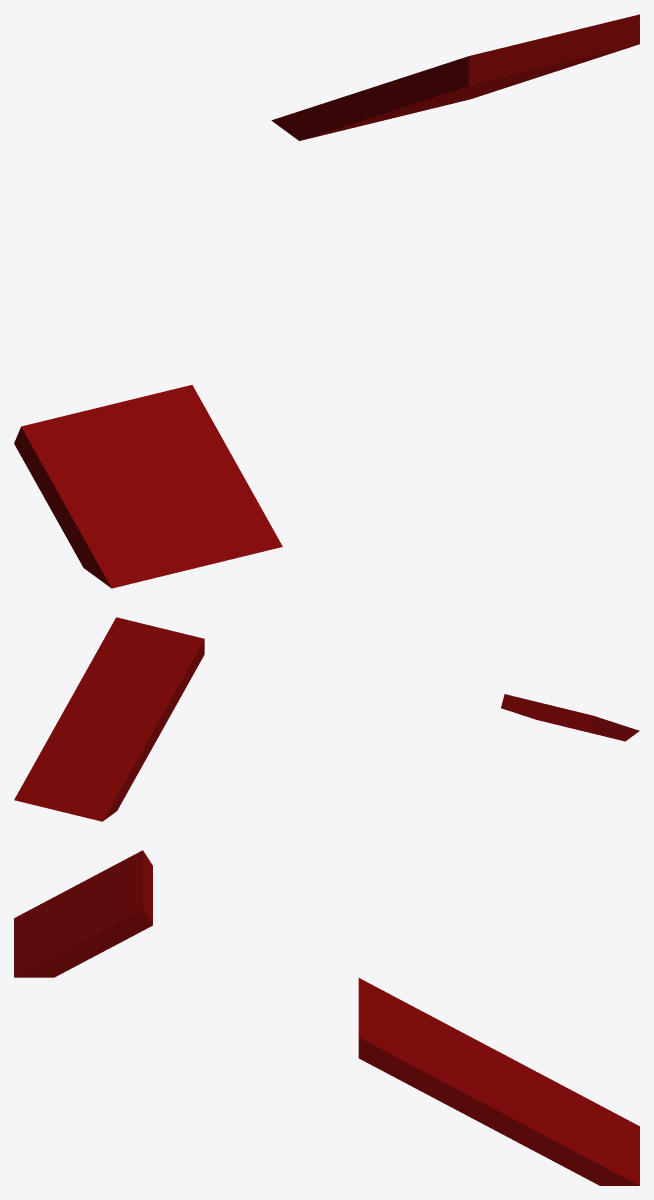
The model's file is HiddenRamps.fbx.
The picture shows the model from 3 angles, top to bottom: view 1: azimuth 30°, elevation 25°; view 2: azimuth 150°, elevation 25°; view 3: azimuth 270°, elevation 25°; orthographic projection. The views are drawn at different scales.
Parts seen in each view (by area): view 1: SmallRamp, LargeRamp; view 2: LargeRamp, SmallRamp; view 3: LargeRamp, SmallRamp.
Part boxes in pixels (bbox=[...]): SmallRamp: bbox=[14, 385, 282, 588]; LargeRamp: bbox=[271, 14, 639, 140]; LargeRamp: bbox=[14, 617, 204, 821]; SmallRamp: bbox=[501, 694, 639, 741]; LargeRamp: bbox=[358, 978, 639, 1185]; SmallRamp: bbox=[14, 850, 152, 977].
Size of the model in its own units: 16.46 by 4.27 by 16.28.
